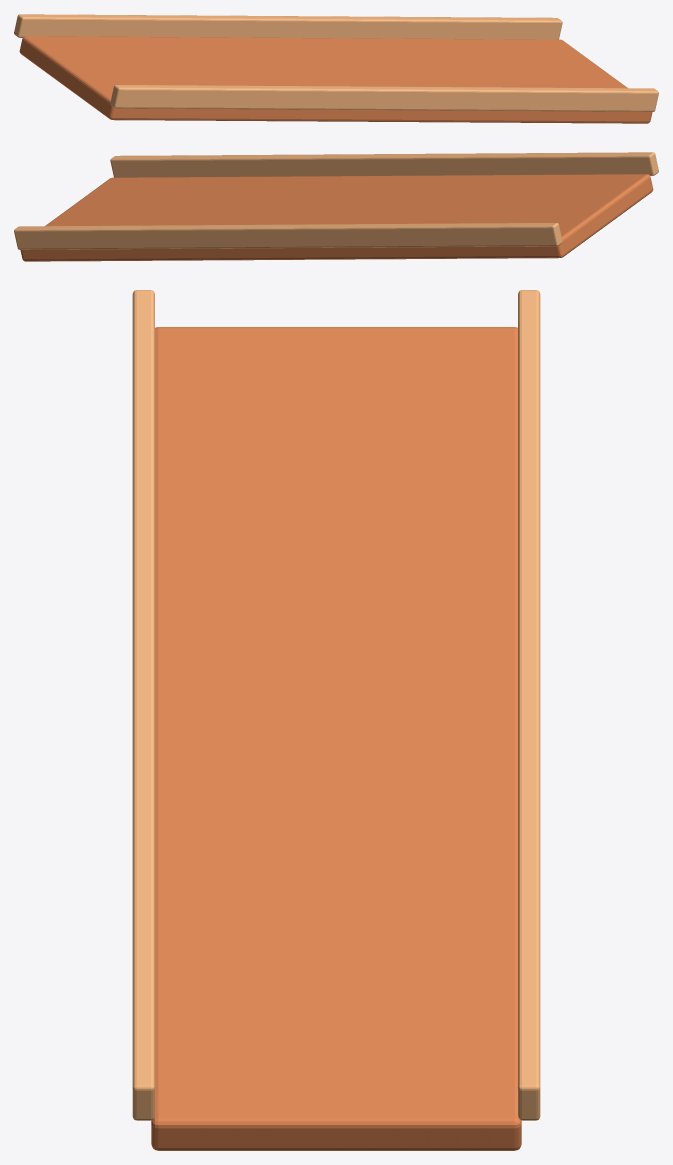
Rendered from ramp.glb.
The picture shows the model from 3 angles, top to bottom: view 1: azimuth 30°, elevation 25°; view 2: azimuth 150°, elevation 25°; view 3: azimuth 270°, elevation 25°; orthographic projection. The views are drawn at different scales.
Parts seen in each view (by area): view 1: Ramp_Surface, Ramp_Rail, Ramp_Rail.001; view 2: Ramp_Surface, Ramp_Rail.001, Ramp_Rail; view 3: Ramp_Surface, Ramp_Rail, Ramp_Rail.001.
Part boxes in pixels (bbox=[...]): Ramp_Surface: bbox=[19, 36, 652, 123]; Ramp_Rail: bbox=[110, 85, 658, 111]; Ramp_Rail.001: bbox=[14, 14, 562, 39]; Ramp_Surface: bbox=[20, 174, 653, 261]; Ramp_Rail.001: bbox=[14, 223, 562, 249]; Ramp_Rail: bbox=[110, 152, 658, 177]; Ramp_Surface: bbox=[151, 327, 521, 1150]; Ramp_Rail: bbox=[132, 290, 154, 1120]; Ramp_Rail.001: bbox=[518, 290, 540, 1120].
Size of the model in its own units: 5.09 by 1.52 by 1.65.
